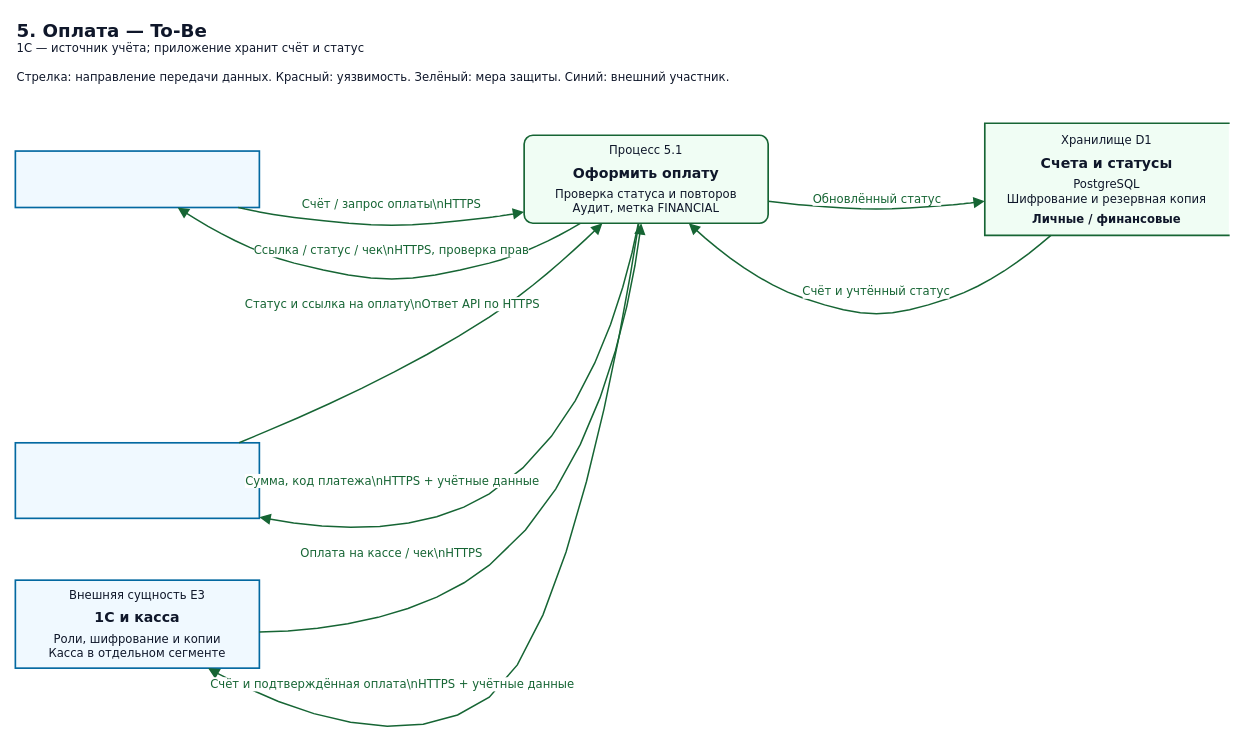
Image size: 1243x750. Some labels were removed from this diagram. The shapes that lost their labels are listed below. From the top down, each one's centre as x and y in pixels, then its label:
At (137,179): "Внешняя сущность E1 Пациент / кассир".
At (137,480): "Внешняя сущность E2 Платёжный провайдер Реквизиты карты — только здесь".
